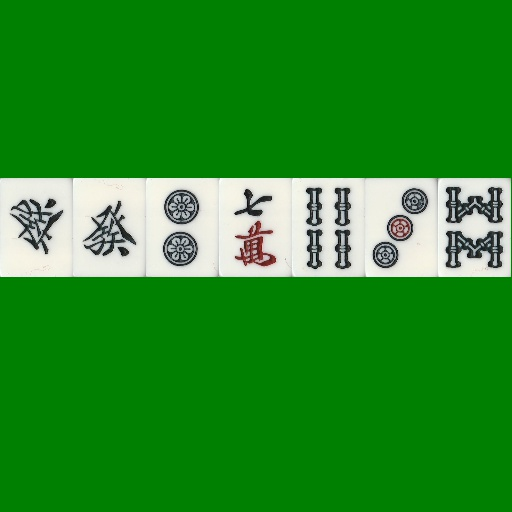2p: (146, 178, 219, 277)
3p: (365, 178, 438, 277)
4s: (292, 178, 365, 277)
7m: (219, 178, 292, 277)
8s: (438, 178, 511, 277)
hatsu: (0, 178, 73, 277), (73, 178, 146, 277)
